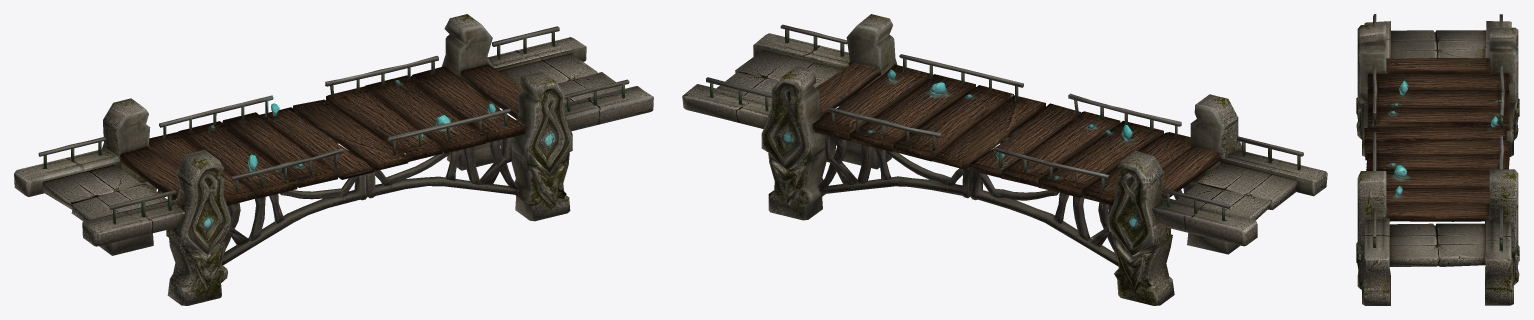
File: tripo_convert_75988623-2cb8-4e75-a5dc-5ea10dc79119.fbx
3 renders of one model, left to right at view 1: azimuth 30°, elevation 25°; view 2: azimuth 150°, elevation 25°; view 3: azimuth 270°, elevation 25°, orthographic. The views are drawn at different scales.
Visible parts, largest first — view 1: tripo_node_75988623; view 2: tripo_node_75988623; view 3: tripo_node_75988623.
Part boxes in pixels (box(x1,y1,x2,y2)): tripo_node_75988623: box(14, 14, 653, 305); tripo_node_75988623: box(682, 14, 1327, 305); tripo_node_75988623: box(1356, 14, 1519, 305).
Bounding box in the file's own units: 0.998 × 0.2363 × 0.2871.
Materials: 1 (1 with a texture image).
